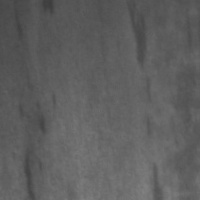inclusion: (10, 90, 61, 200), (164, 58, 200, 193), (125, 0, 159, 71), (139, 72, 164, 137), (148, 157, 168, 194), (10, 7, 26, 39), (142, 112, 157, 143)
